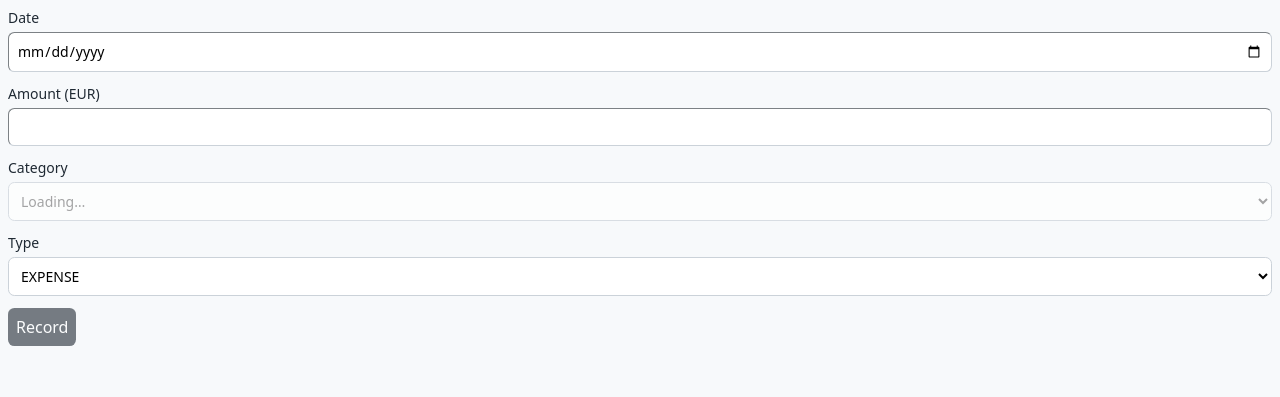
Test: RecordTransactionForm › shows the API error when recording fails
Type "2026-07-15" into the date field labelled "Date" at (640, 52), box [8,32,1272,72]
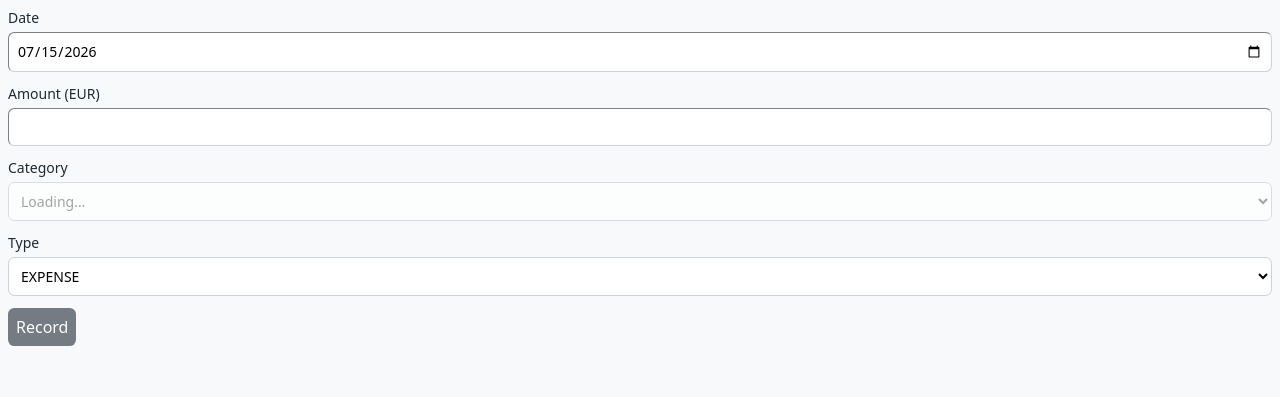
Type "42" into the number field labelled "Amount (EUR)" at (640, 127), box [8,108,1272,146]
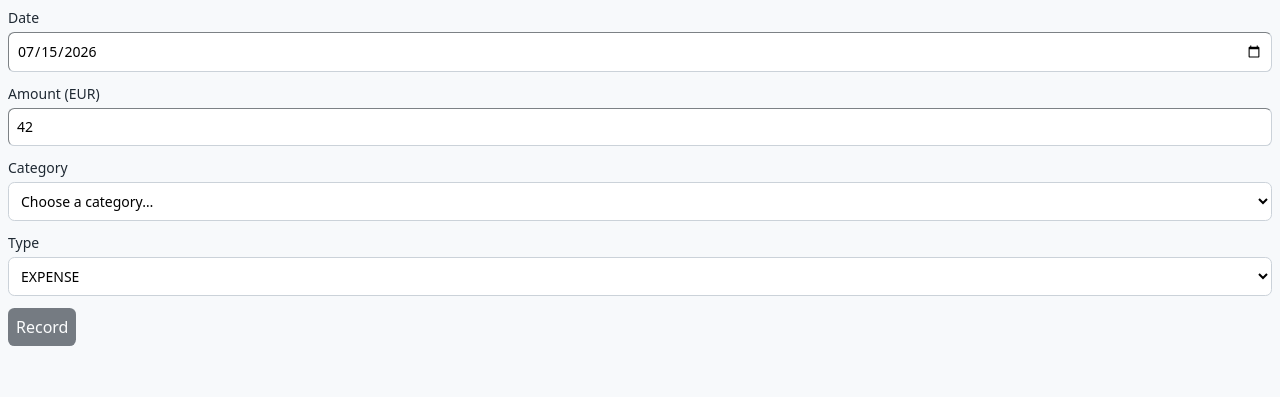
Select "Groceries" in the dropdown labelled "Category" at (640, 202), box [8,182,1272,221]
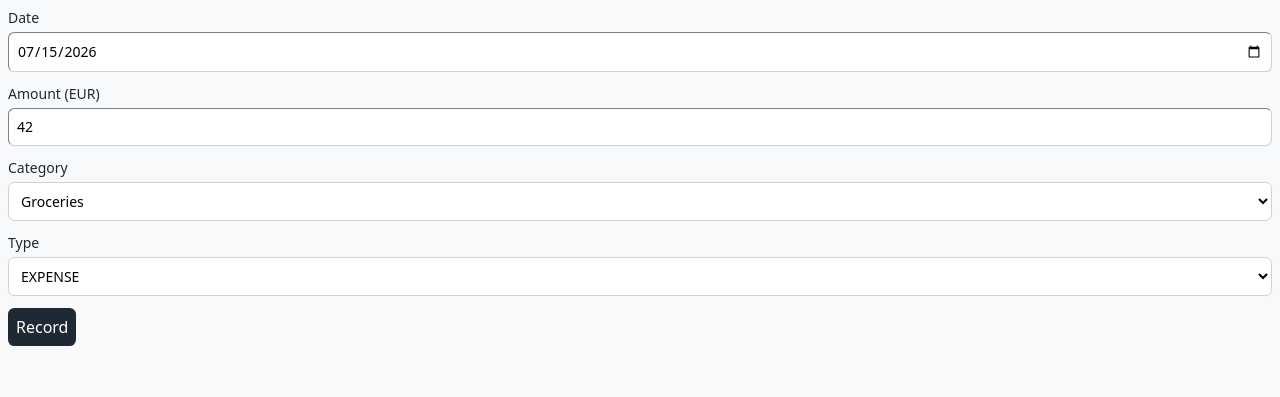
Click the button "Record" at (42, 327), box [8,308,76,346]
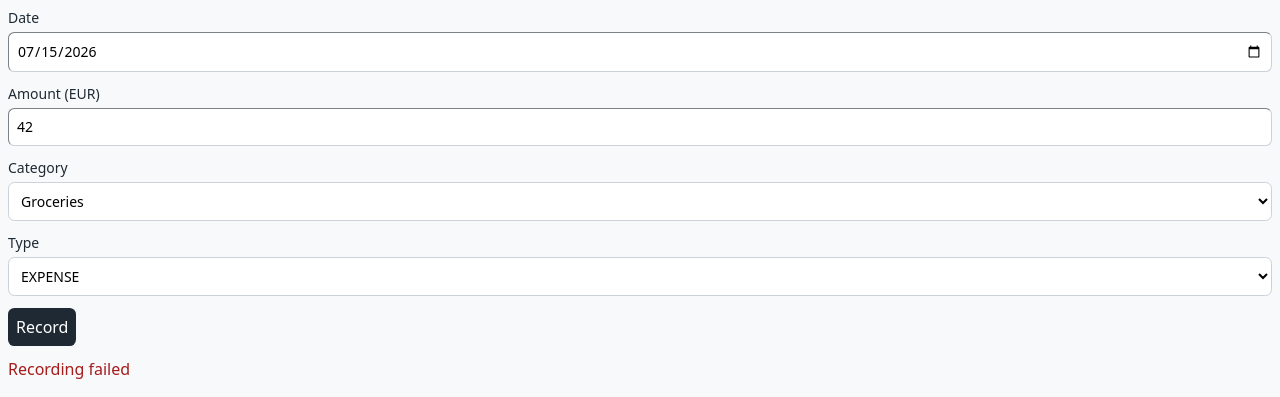
expect the message reads "Recording failed": met, box [8,358,130,380]
